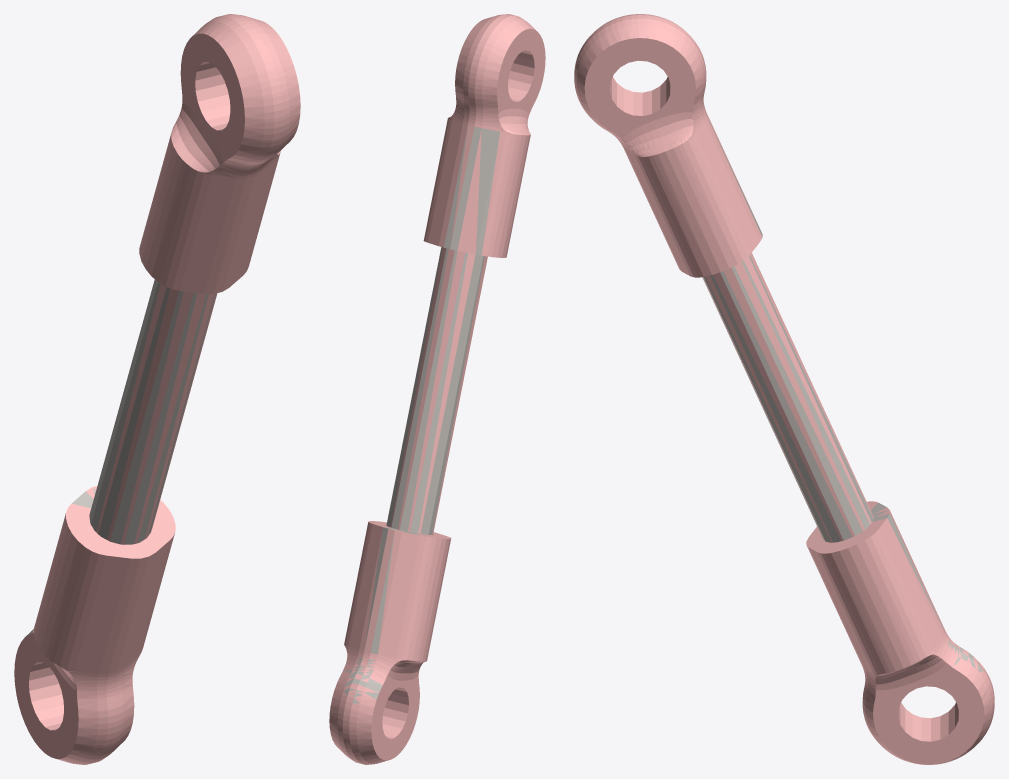
The model's file is Right Link.glb.
3 views of the same model, side by side, from view 1: azimuth 30°, elevation 25°; view 2: azimuth 150°, elevation 25°; view 3: azimuth 270°, elevation 25° (orthographic). The views are drawn at different scales.
Size of the model in its own units: 0.007 by 0.059 by 0.0302.
